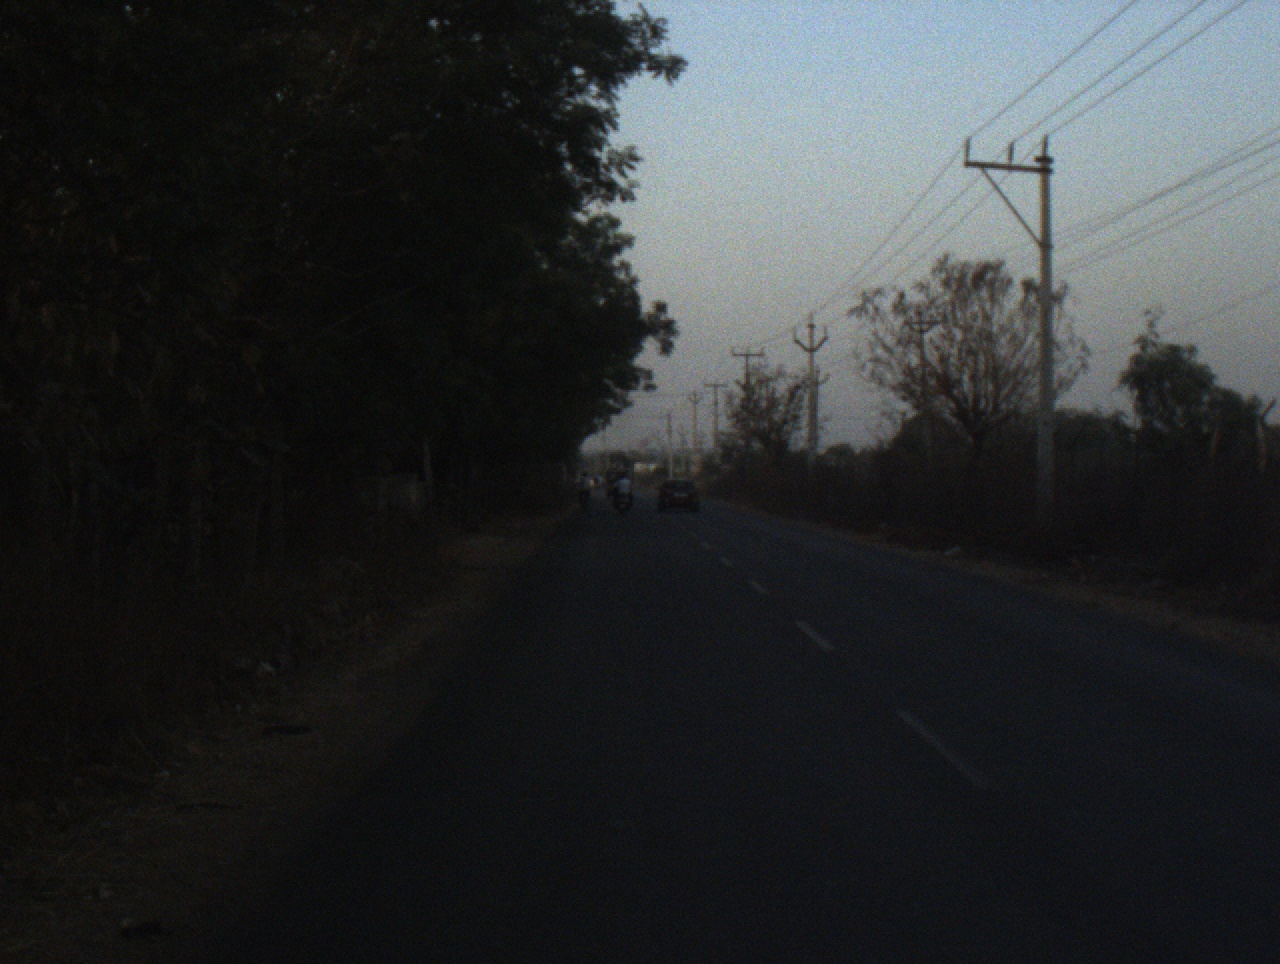autorickshaw: (607, 466, 624, 496)
bicycle: (580, 491, 589, 515)
car: (656, 476, 703, 512)
motorcycle: (610, 490, 634, 514)
rider: (573, 469, 593, 505), (615, 471, 638, 499)
vehicle fallback: (602, 451, 633, 482)
